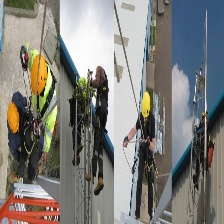helmet: (30, 54, 47, 95), (8, 103, 19, 133), (141, 91, 150, 118)
